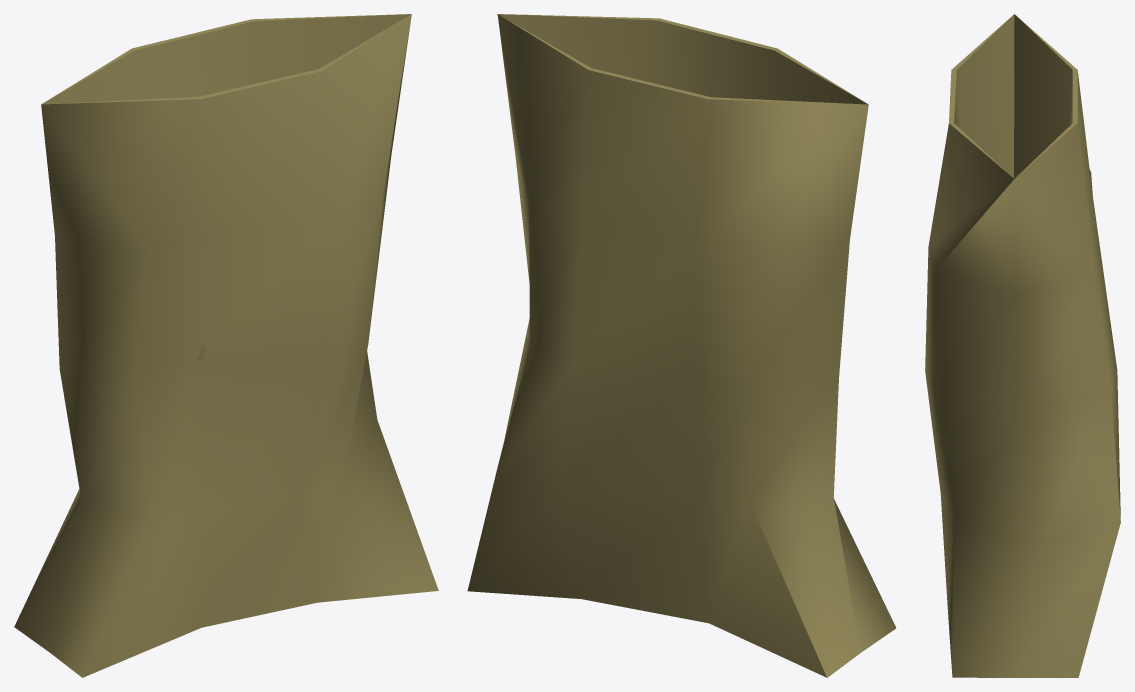
The model's file is Papitas.fbx.
The picture shows the model from 3 angles, left to right: view 1: azimuth 30°, elevation 25°; view 2: azimuth 150°, elevation 25°; view 3: azimuth 270°, elevation 25°; orthographic projection. The views are drawn at different scales.
Visible parts, largest first — view 1: pCube1; view 2: pCube1; view 3: pCube1.
Boxes of the visible parts, x1=… form: pCube1: x1=14, y1=14, x2=438, y2=677; pCube1: x1=467, y1=14, x2=895, y2=677; pCube1: x1=925, y1=14, x2=1120, y2=677.
Bounding box in the file's own units: 0.4053 × 0.5748 × 0.2032.
